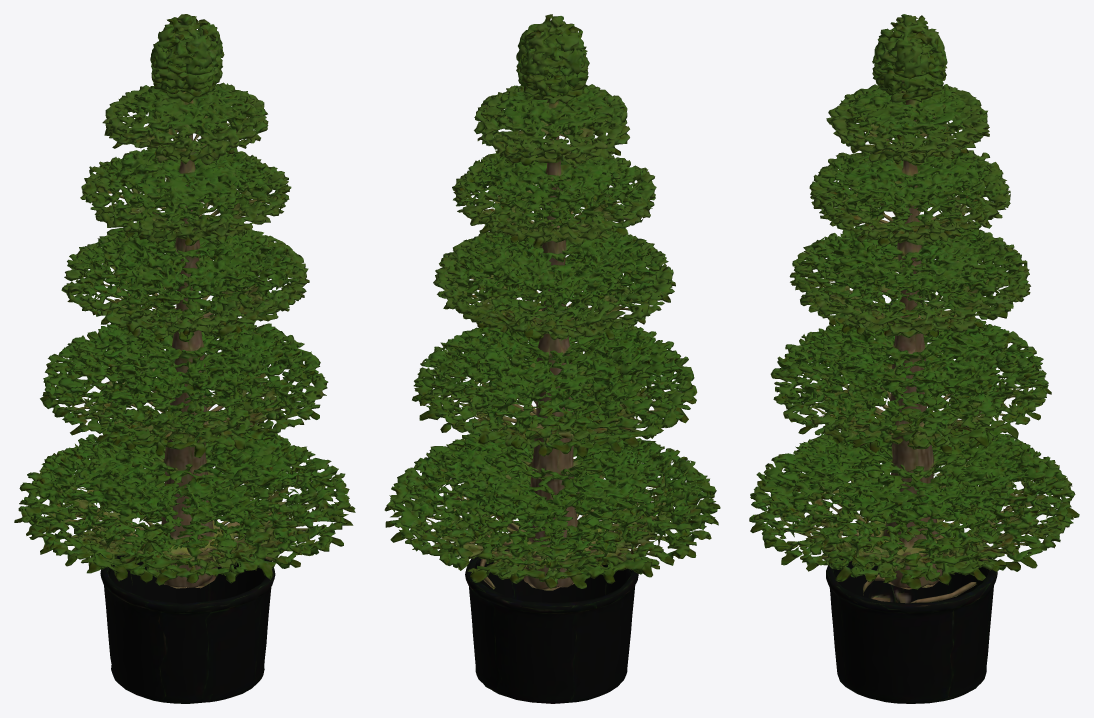
File: Miscellaneous [pp2rk2].glb
3 views of the same model, side by side, from view 1: azimuth 30°, elevation 25°; view 2: azimuth 150°, elevation 25°; view 3: azimuth 270°, elevation 25° (orthographic).
Parts seen in each view (by area): view 1: geometry_0; view 2: geometry_0; view 3: geometry_0.
Part boxes in pixels (bbox=[...]): geometry_0: bbox=[14, 14, 355, 703]; geometry_0: bbox=[384, 14, 720, 703]; geometry_0: bbox=[749, 14, 1079, 703].
Bounding box in the file's own units: 0.4609 × 1 × 0.456.
Materials: 1 (1 with a texture image).
